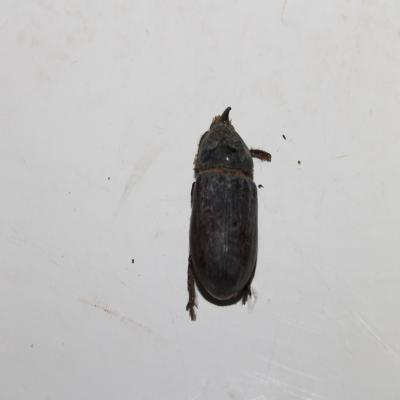natural_science_collection: (187, 108, 271, 319)
